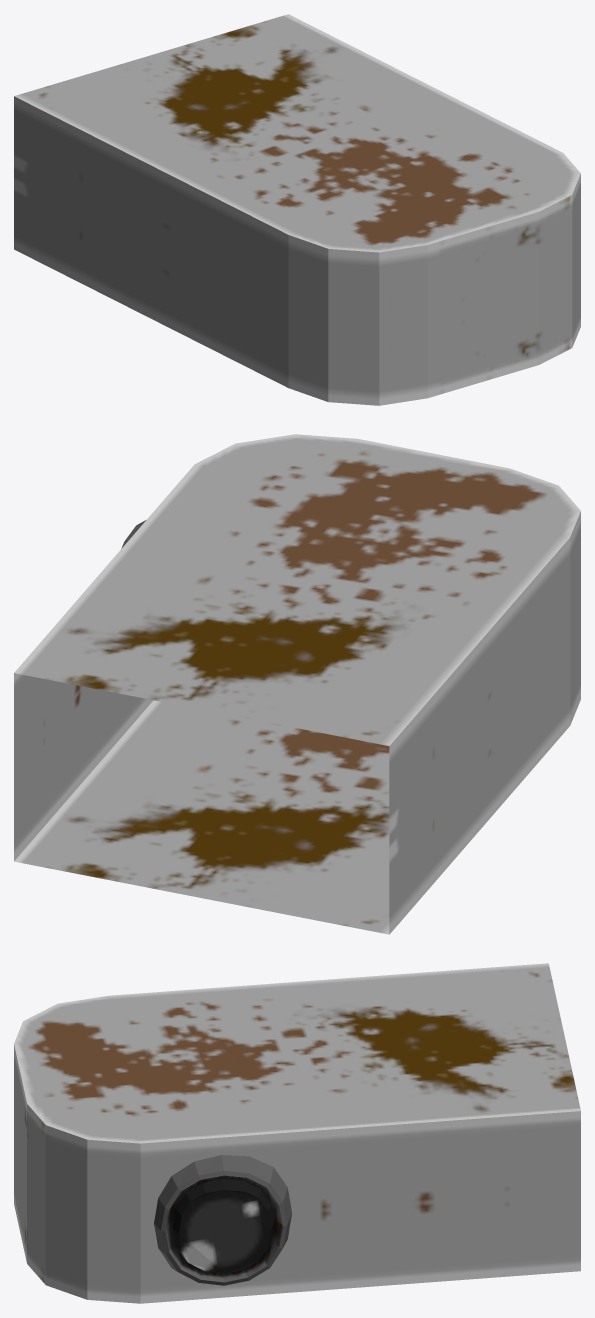
The model's file is SM_Mech_Canopy.obj.
3 renders of one model, top to bottom at view 1: azimuth 30°, elevation 25°; view 2: azimuth 150°, elevation 25°; view 3: azimuth 270°, elevation 25°, orthographic. The views are drawn at different scales.
Parts seen in each view (by area): view 1: SM_Mech_Canopy; view 2: SM_Mech_Canopy; view 3: SM_Mech_Canopy.
Boxes of the visible parts, box(x1,y1,x2,y2) form: SM_Mech_Canopy: box(14, 14, 580, 405); SM_Mech_Canopy: box(14, 434, 580, 934); SM_Mech_Canopy: box(14, 963, 580, 1303).
Size of the model in its own units: 76.9 by 30.28 by 97.14.
Materials: 1 (1 with a texture image).
